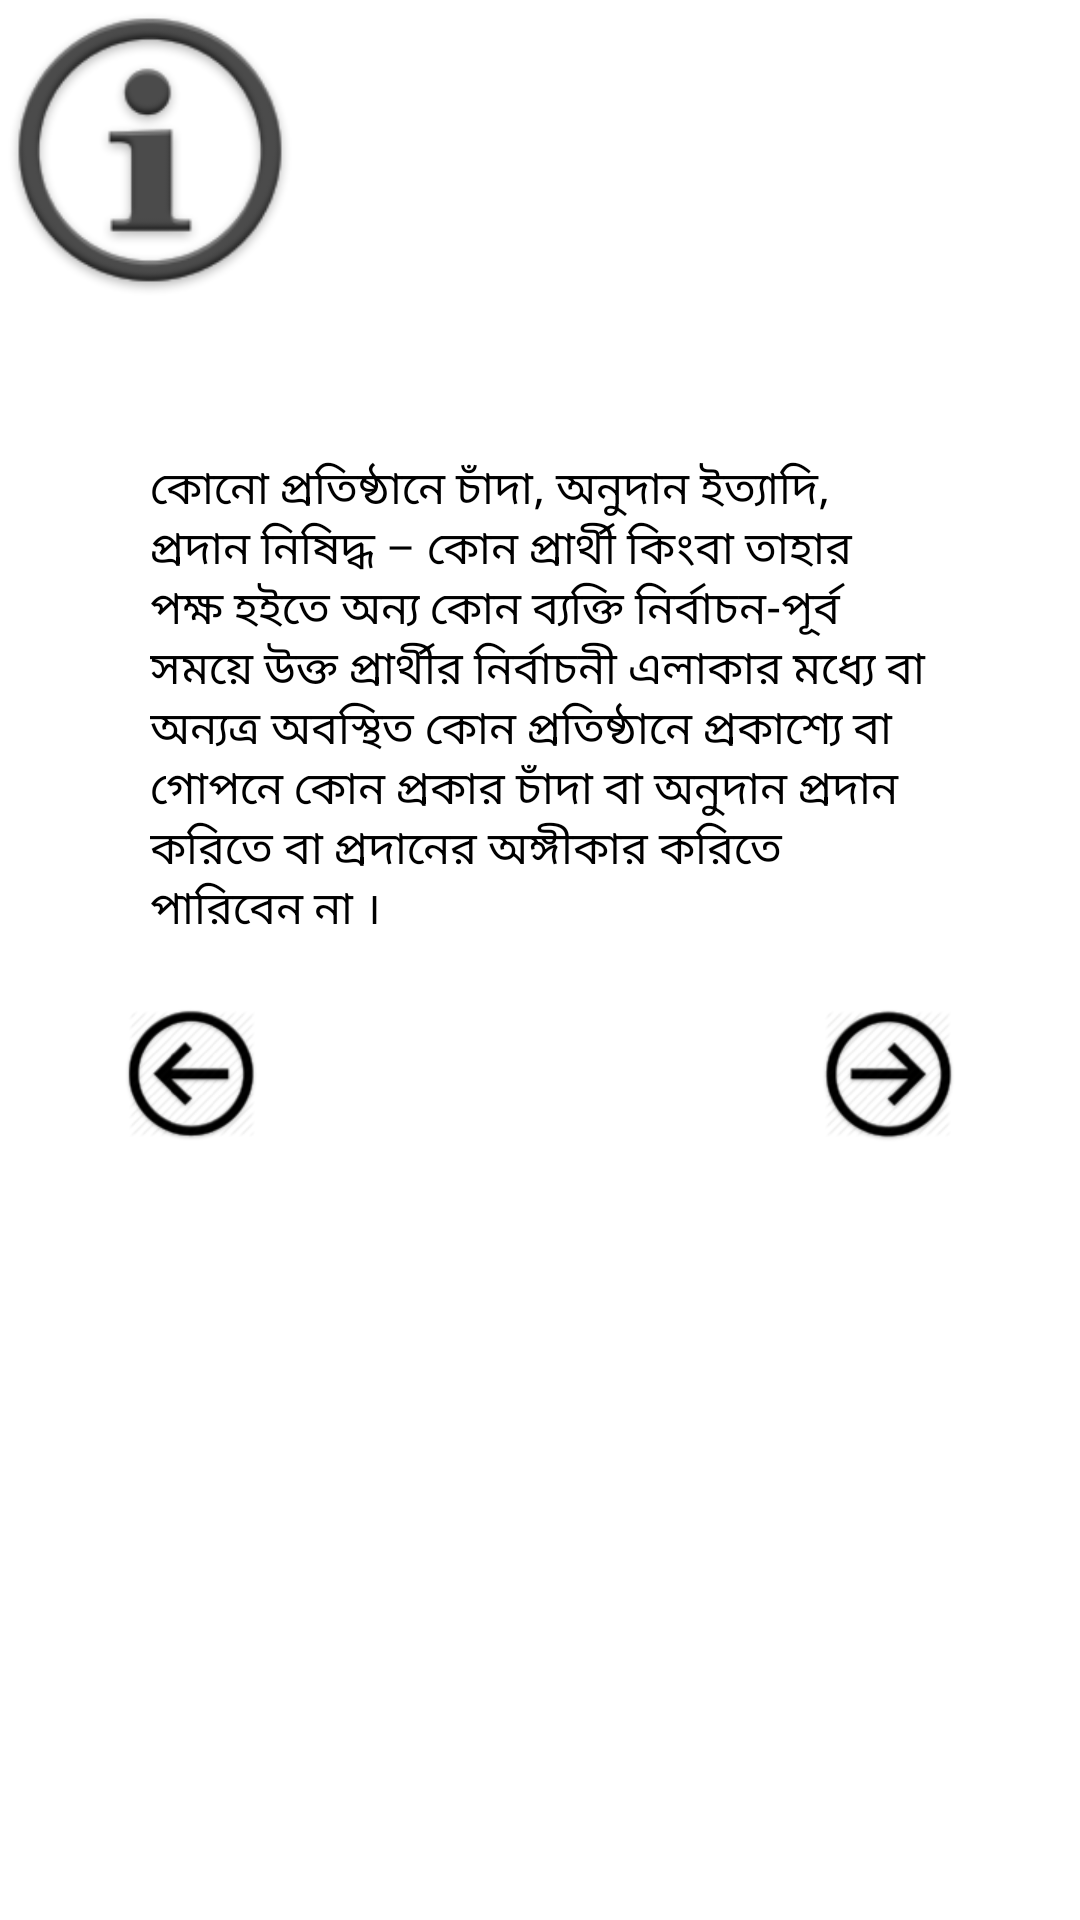

Named icons in this screenshot (1080 x 1920) and their centers, [x,y]:
back: [191,1074]
forward: [888,1074]
info: [150,153]
